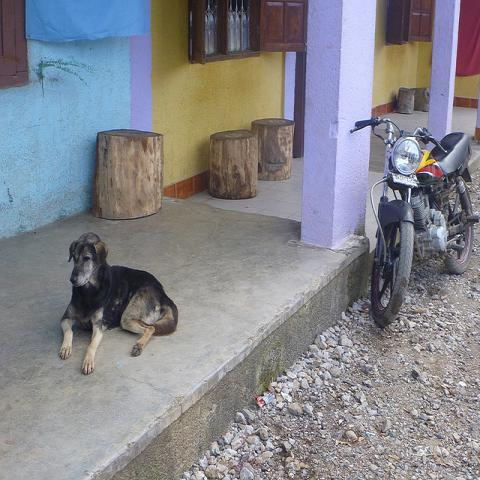motorcycle: (353, 118, 479, 322)
